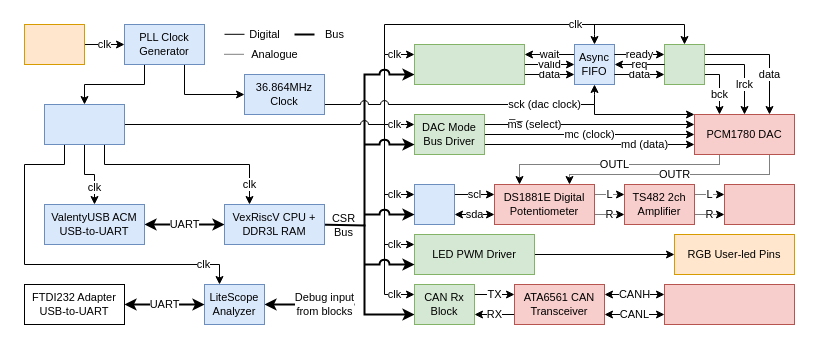
The diagram is 822 pixels wide and 352 high, and some of its shapes have lost their labels. Each missing label, with the box of its shape:
3.5mm Audio Port: (724, 184, 794, 224)
48MHz Clock: (44, 104, 124, 144)
48MHz Oscillator: (24, 24, 84, 64)
DAC Driver: (664, 44, 704, 84)
I2C Master: (414, 184, 454, 224)
StackSynth Inter-board Connector: (664, 284, 794, 324)
Wave Sample Generator Block: (414, 44, 524, 84)
